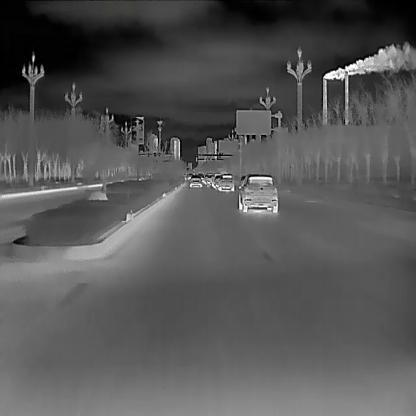car: (239, 175, 278, 213), (216, 173, 234, 191), (189, 173, 202, 188)
